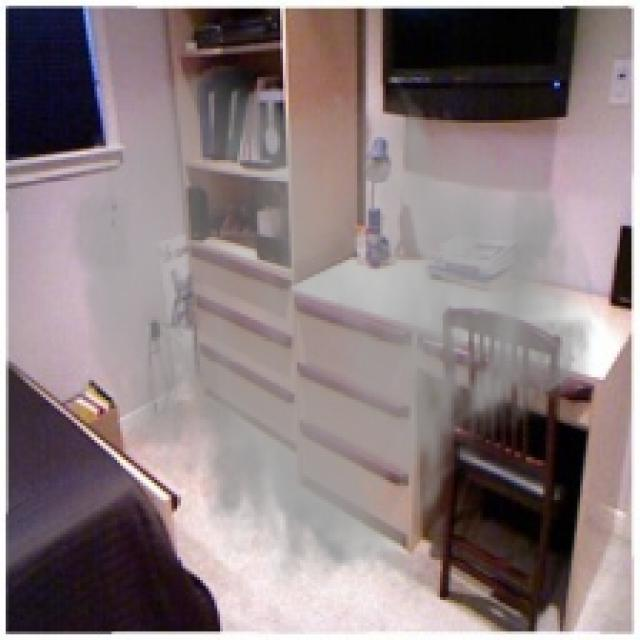smoke: (57, 60, 600, 606)
